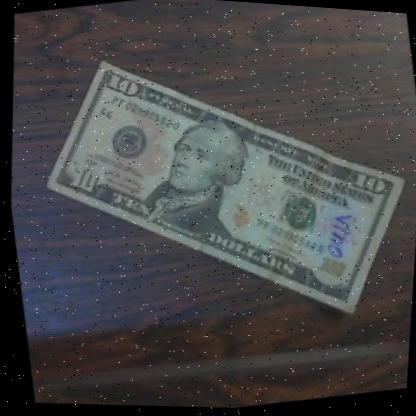ten-front: (7, 5, 416, 373)
